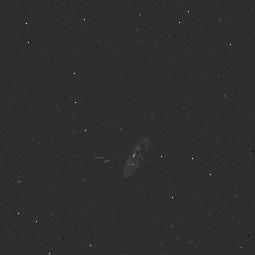proba_3_ocs: (88, 123, 154, 178)
